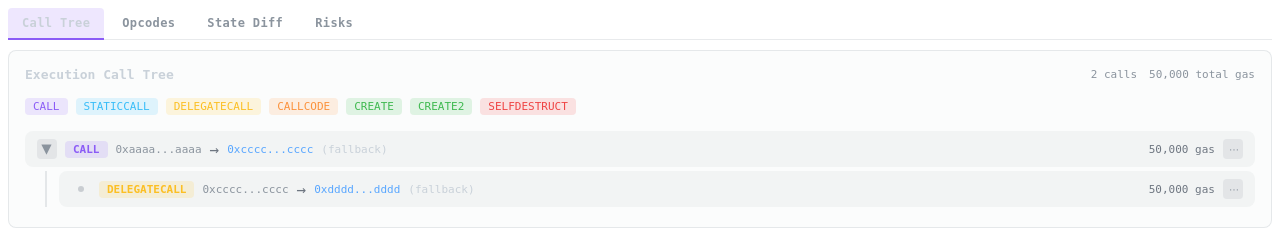
Test: FullDebuggerLayout › renders the opcode viewer when opcodes are present
The image size is (1280, 245).
Click the tab "Opcodes": click(149, 23) [122,16,175,30]
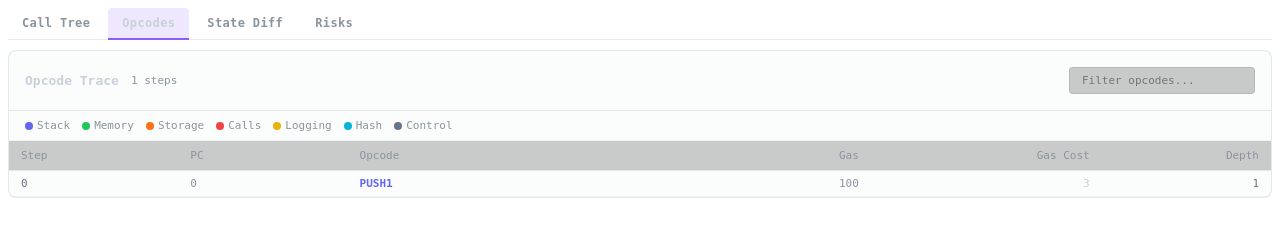
expect the text "PUSH1" is shown: met, box [360,177,393,190]
